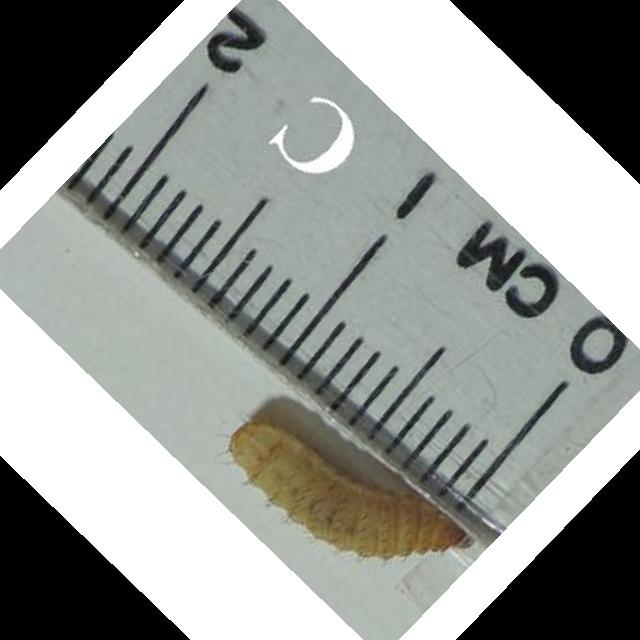Maggot: (228, 421, 475, 563)
